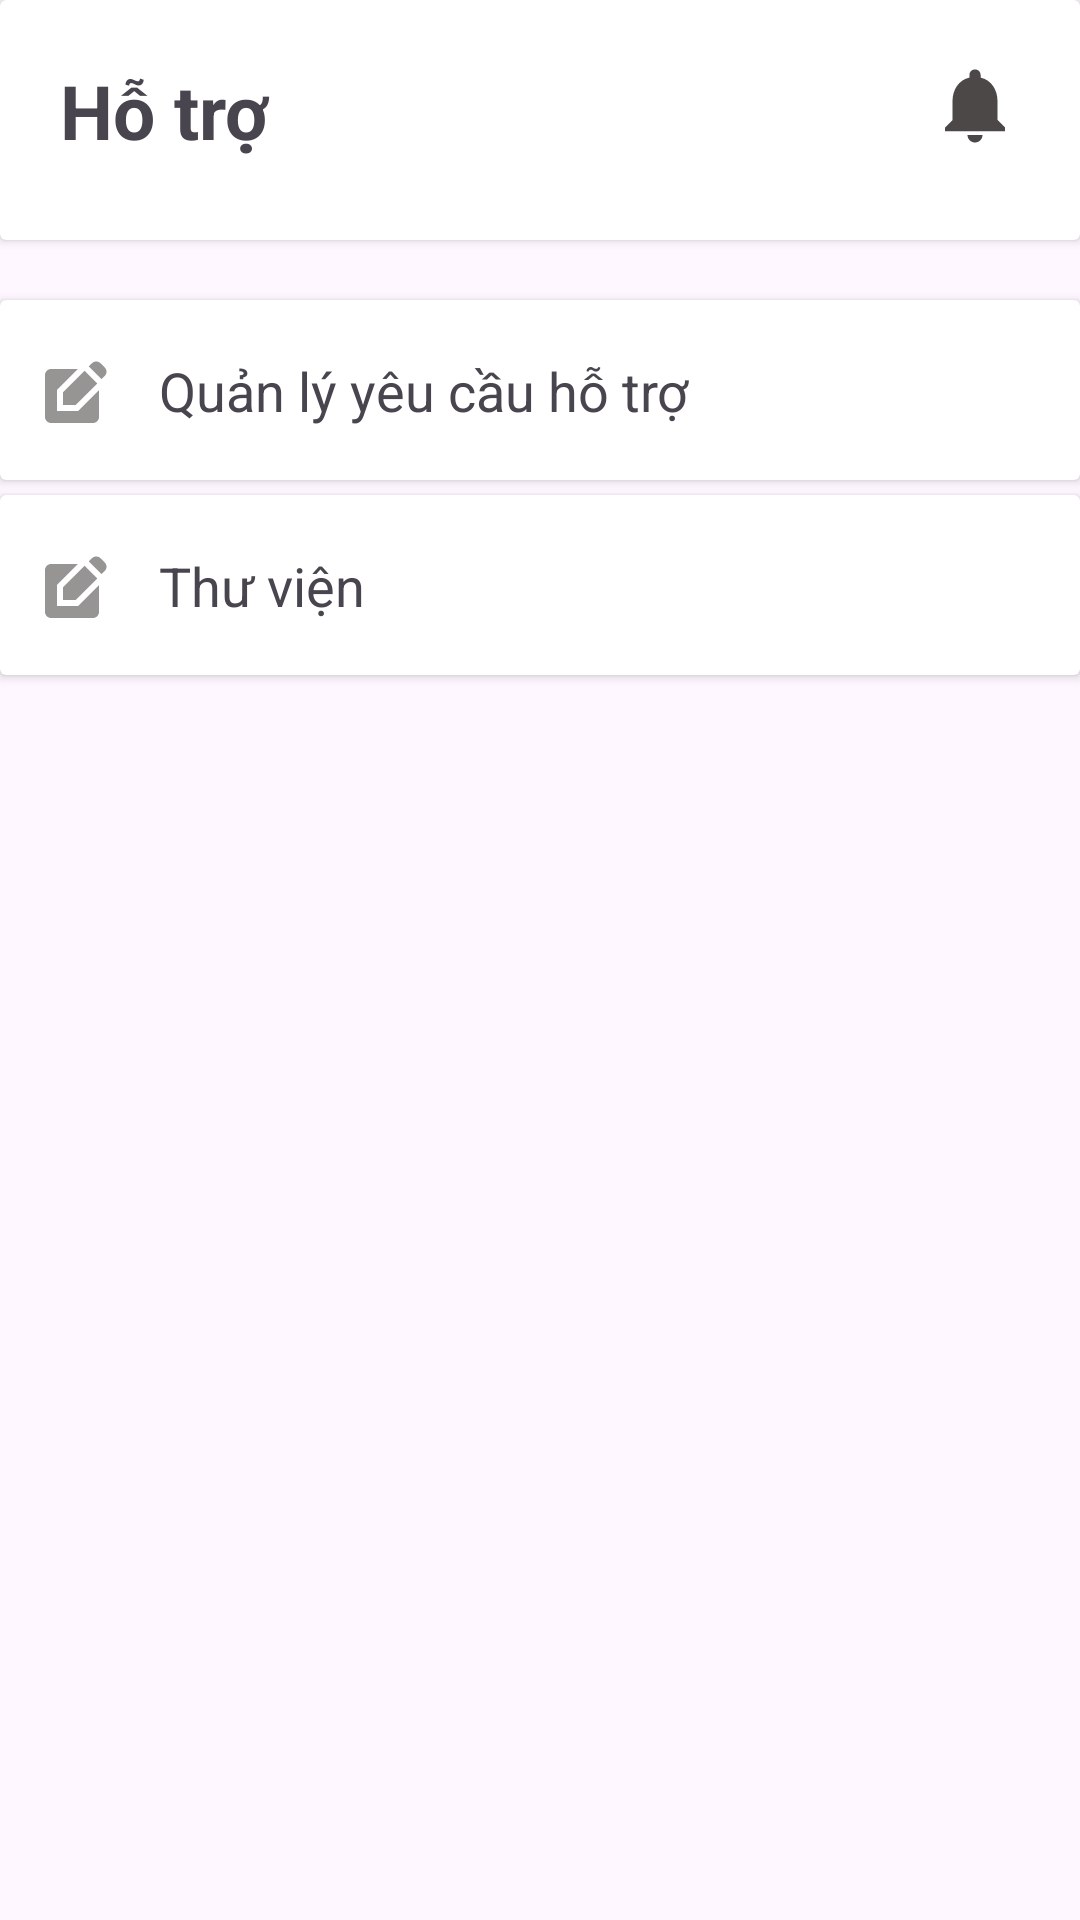

Named icons in this screenshot (1080px x 1920px) and their bounding boxes, detection(x1, y1, x2, y2):
edit square: detection(45, 361, 107, 423), detection(45, 556, 107, 618)
notifications: detection(945, 69, 1005, 143)
